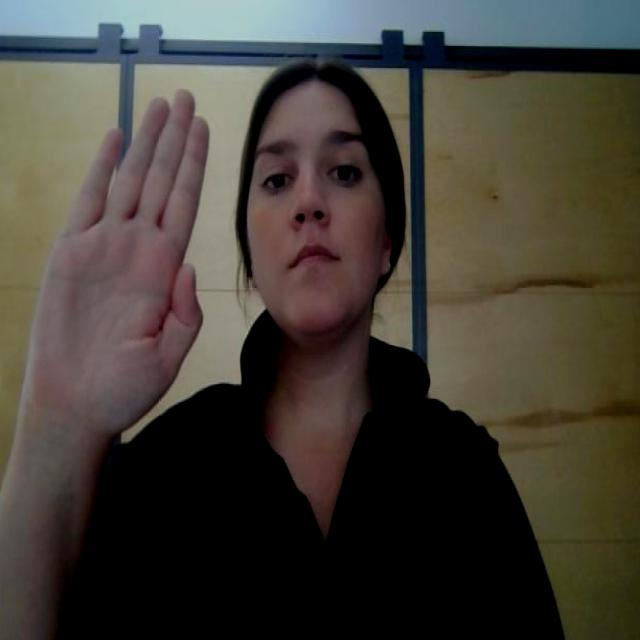Paper: (13, 78, 207, 460)
